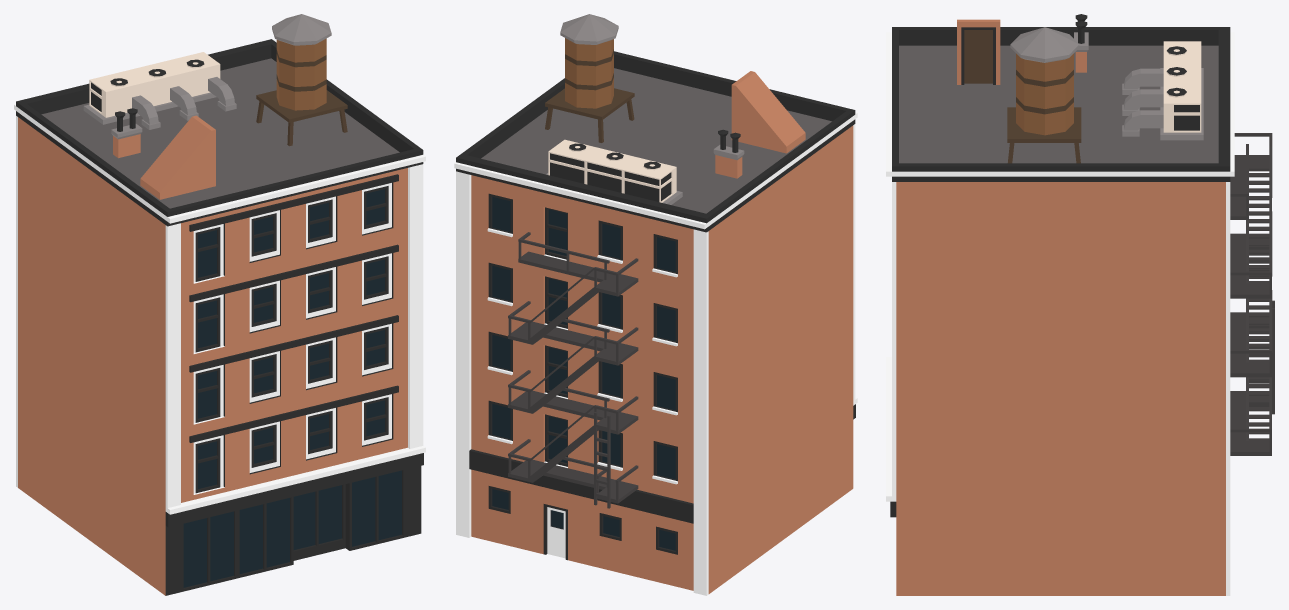
File: building-block-4floor-back.glb
3 views of the same model, side by side, from view 1: azimuth 30°, elevation 25°; view 2: azimuth 150°, elevation 25°; view 3: azimuth 270°, elevation 25° (orthographic). The views are drawn at different scales.
Parts seen in each view (by area): view 1: building-block-4floor-back; view 2: building-block-4floor-back; view 3: building-block-4floor-back.
Boxes of the visible parts, left/top/right/bottom form: building-block-4floor-back: left=14, top=14, right=425, bottom=595; building-block-4floor-back: left=454, top=14, right=857, bottom=595; building-block-4floor-back: left=886, top=14, right=1274, bottom=595.
Bounding box in the file's own units: 11.4 × 20.61 × 13.45.
Materials: 1 (1 with a texture image).
